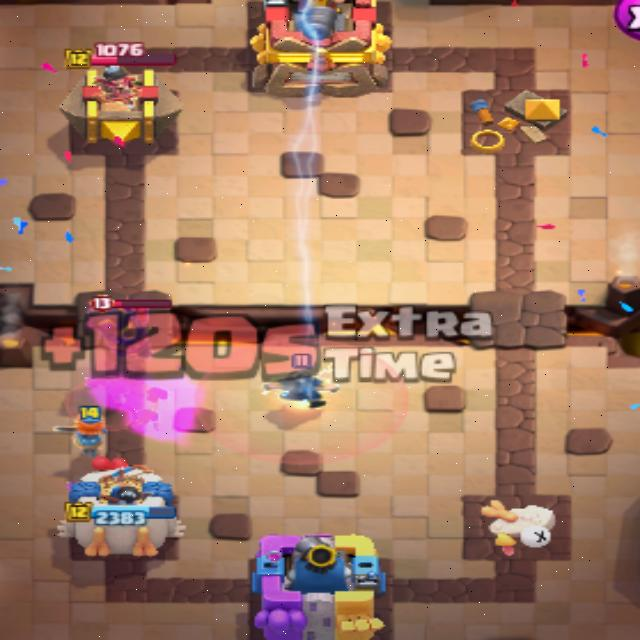EKingTower: (249, 0, 391, 96), (58, 481, 184, 556)
EnemyPrincessTower: (60, 51, 180, 149)
OValk: (54, 405, 107, 458)
OwnKingTower: (353, 563, 391, 639), (249, 557, 271, 622), (250, 624, 263, 639)
TowerDown: (463, 92, 570, 157), (463, 495, 570, 558)
